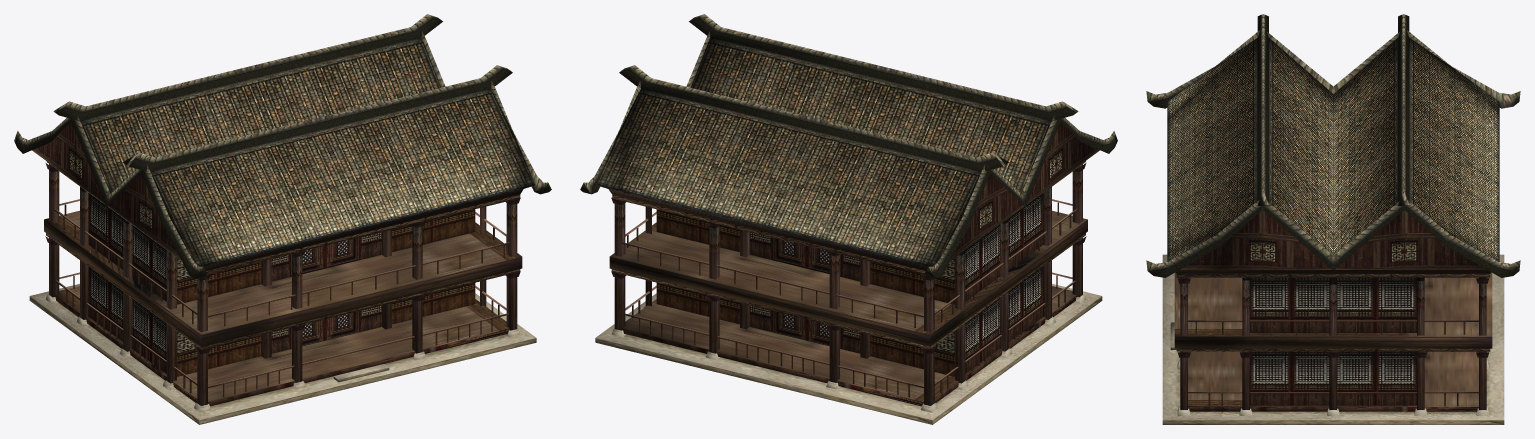
File: b1-033-guesthouse-01_lod_01.glb
The picture shows the model from 3 angles, left to right: view 1: azimuth 30°, elevation 25°; view 2: azimuth 150°, elevation 25°; view 3: azimuth 270°, elevation 25°; orthographic projection.
Visible parts, largest first — view 1: a1-033-guesthouse-01, b1-033-guesthouse-02; view 2: a1-033-guesthouse-01, b1-033-guesthouse-02; view 3: a1-033-guesthouse-01, b1-033-guesthouse-02.
Part boxes in pixels (left/top/right/bottom): a1-033-guesthouse-01: left=14, top=14, right=551, bottom=412; b1-033-guesthouse-02: left=29, top=164, right=536, bottom=424; a1-033-guesthouse-01: left=580, top=14, right=1117, bottom=412; b1-033-guesthouse-02: left=595, top=164, right=1102, bottom=424; a1-033-guesthouse-01: left=1146, top=14, right=1520, bottom=415; b1-033-guesthouse-02: left=1162, top=254, right=1504, bottom=424.
Size of the model in its own units: 21.33 by 12.64 by 17.86.
2 materials, 2 textured.
